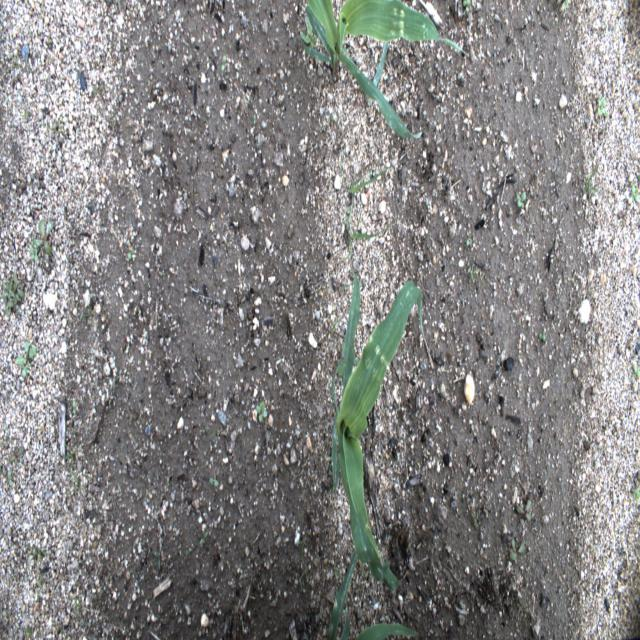crop: (332, 262, 432, 588), (300, 0, 462, 138), (325, 550, 365, 640), (351, 622, 421, 640), (339, 608, 349, 640)
weed: (339, 162, 397, 254), (1, 437, 27, 486), (1, 270, 24, 316), (31, 220, 54, 261), (582, 164, 604, 202), (61, 446, 80, 489), (511, 493, 534, 528), (296, 534, 310, 589), (16, 340, 36, 378), (507, 535, 528, 561), (300, 16, 317, 48), (512, 185, 530, 213), (28, 545, 47, 570), (466, 262, 484, 287), (49, 120, 64, 145), (152, 543, 165, 569), (88, 81, 105, 100), (253, 401, 269, 421), (90, 588, 104, 610), (536, 323, 550, 345), (41, 30, 54, 53), (67, 396, 78, 423), (20, 105, 34, 123), (35, 167, 45, 192), (9, 52, 19, 75), (125, 245, 137, 264), (596, 95, 606, 116), (630, 180, 638, 205), (628, 360, 638, 380), (206, 475, 220, 489), (631, 479, 638, 507), (458, 1, 472, 14), (462, 234, 473, 250), (336, 274, 344, 296), (219, 54, 228, 73), (198, 532, 210, 546), (24, 623, 35, 637), (330, 321, 339, 337), (470, 512, 479, 528), (560, 1, 571, 10)
